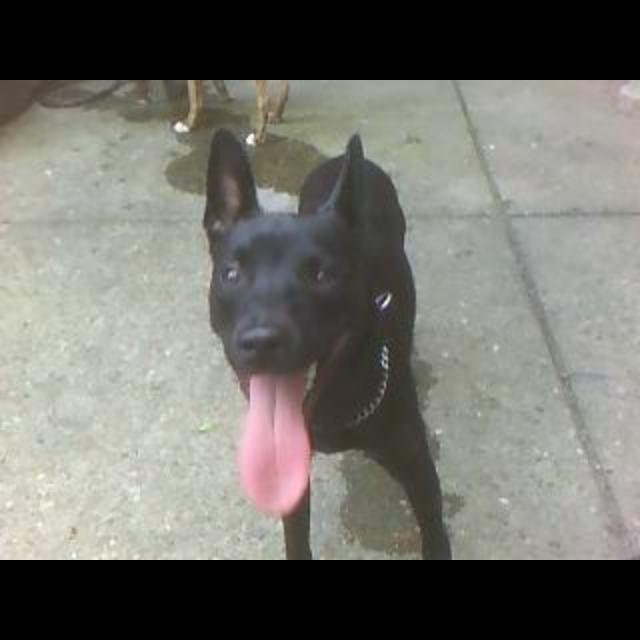amstaff: (201, 125, 453, 559)
